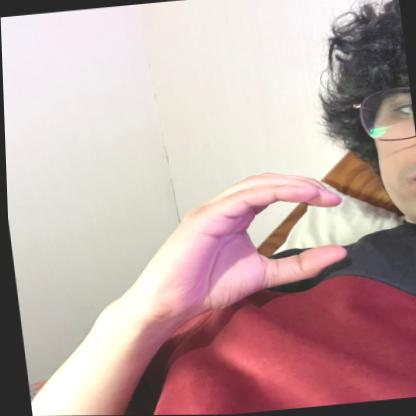C: (137, 153, 360, 327)
